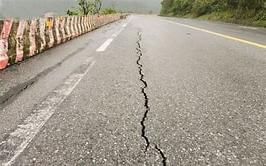ROAD_CRACK: (12, 20, 182, 166)
